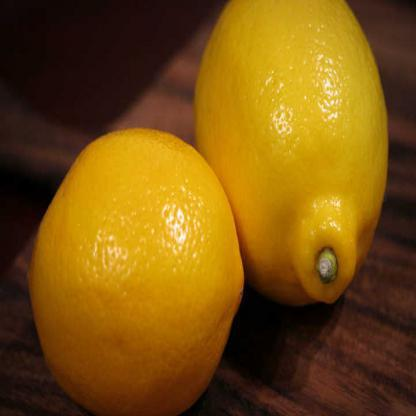lemon: (189, 1, 392, 312), (27, 124, 246, 412)
